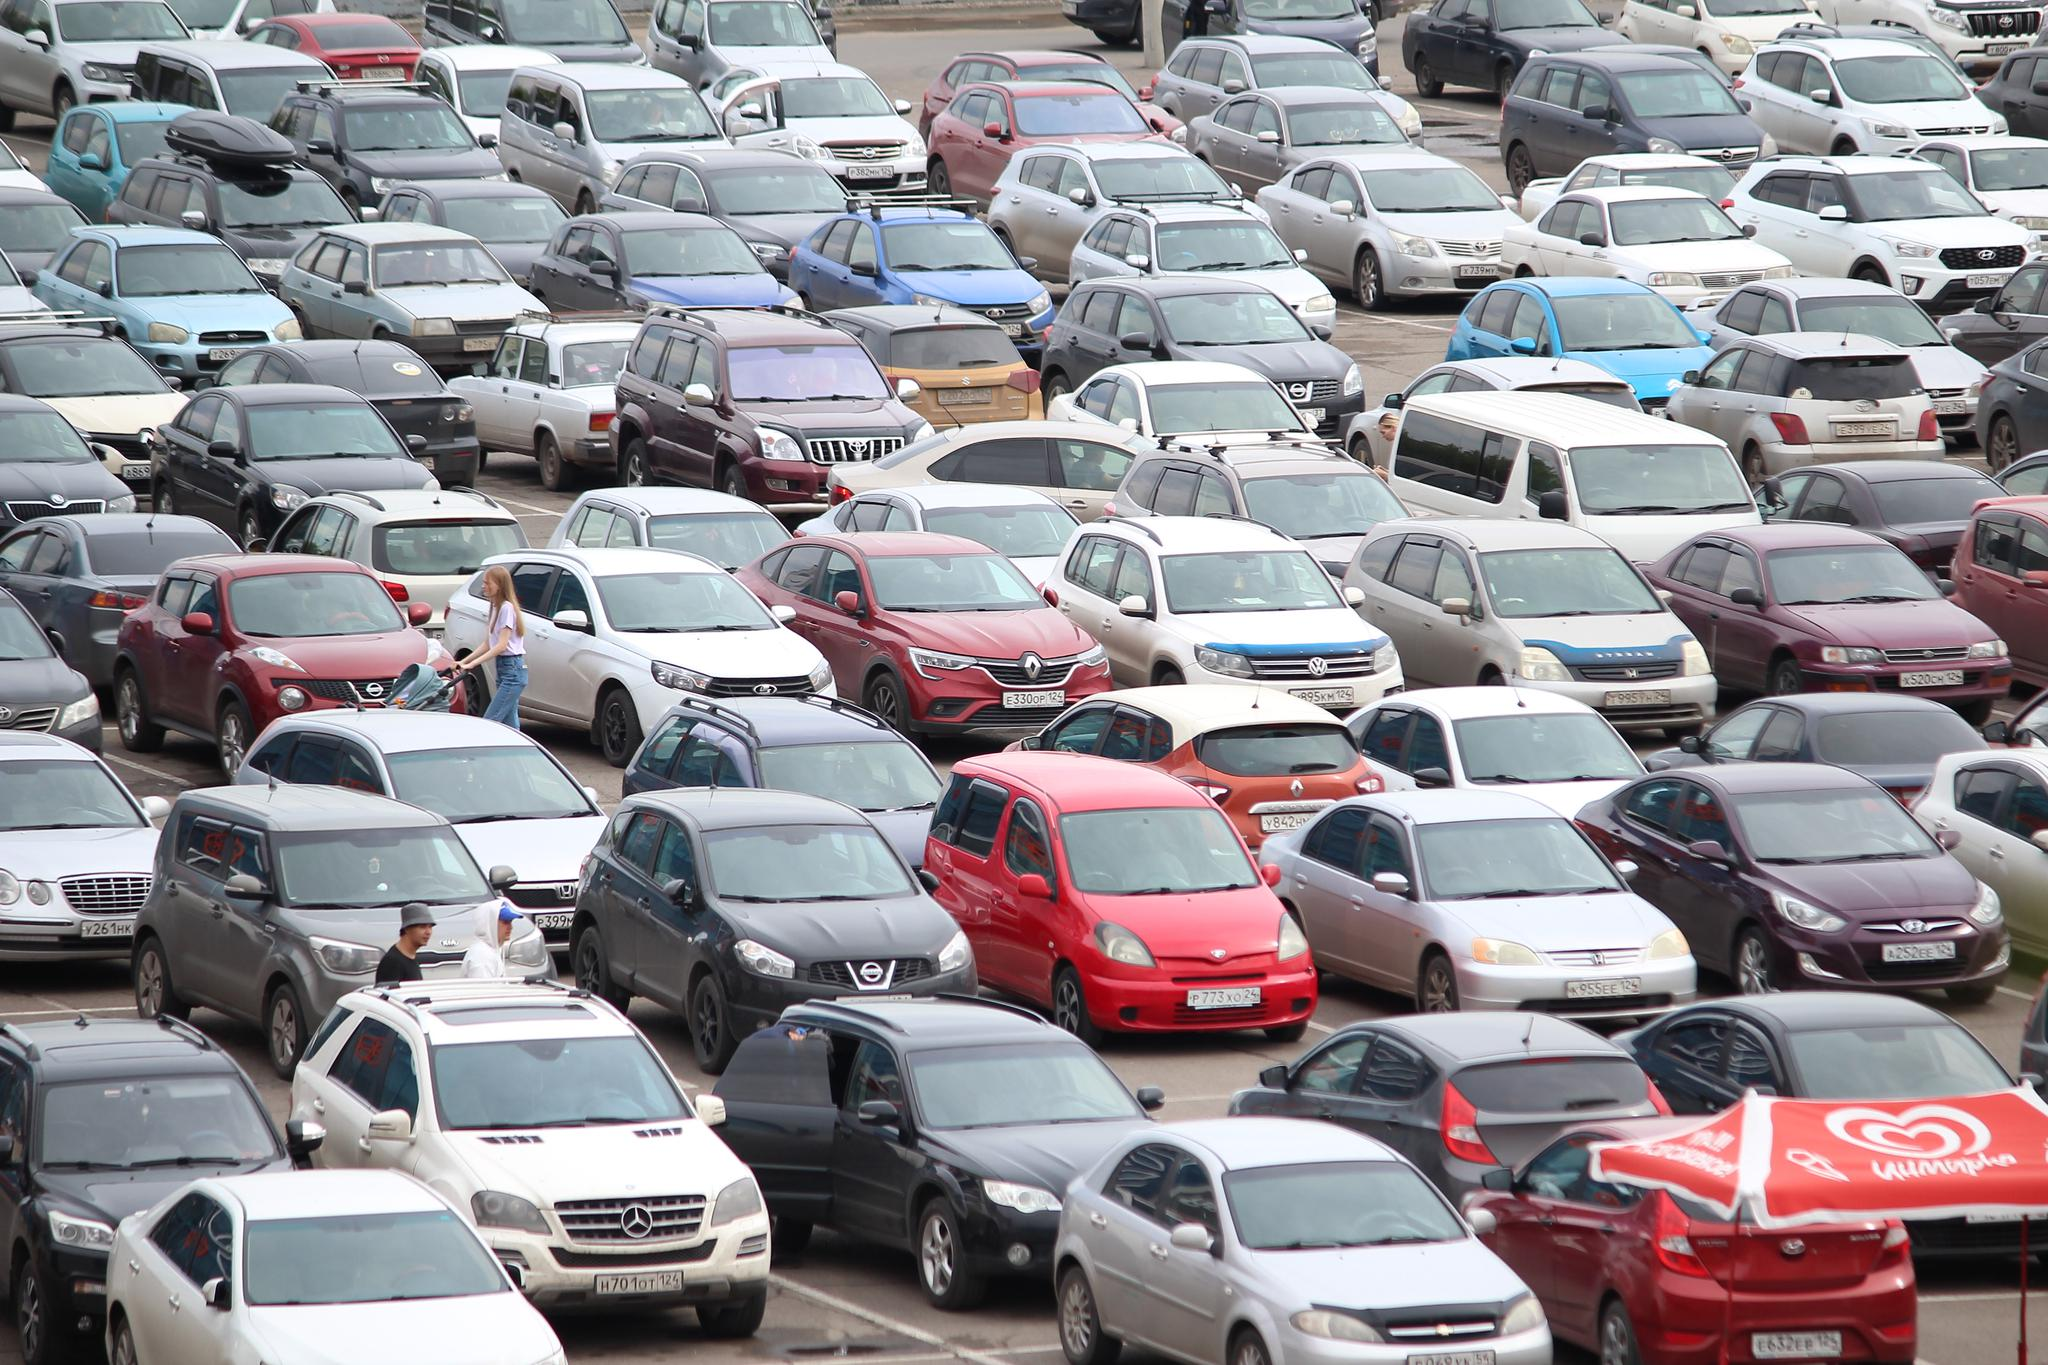Car: (291, 977, 770, 1338), (713, 998, 1160, 1309), (132, 783, 559, 1079), (1054, 1118, 1553, 1365), (568, 789, 976, 1072), (923, 751, 1316, 1042), (1459, 1117, 1919, 1365), (1577, 765, 2008, 1002), (1259, 789, 1696, 1021), (0, 1018, 291, 1365), (238, 708, 611, 955), (1227, 1010, 1675, 1210), (107, 1172, 565, 1365), (442, 547, 834, 765), (1343, 519, 1718, 745), (116, 553, 469, 782), (731, 530, 1118, 736), (1637, 524, 2015, 724), (1037, 516, 1405, 719), (606, 306, 935, 513), (1389, 390, 1763, 565), (1002, 682, 1383, 846), (621, 696, 941, 870), (1042, 277, 1367, 446), (1719, 154, 2040, 314), (1102, 433, 1431, 587), (151, 384, 443, 555), (1681, 277, 1984, 442), (1608, 993, 2015, 1115), (107, 111, 362, 299), (0, 513, 245, 705), (32, 222, 305, 390), (1666, 331, 1946, 494), (498, 62, 793, 216), (787, 206, 1054, 367), (279, 222, 551, 378), (1255, 154, 1524, 309), (1343, 686, 1649, 821), (987, 143, 1278, 283), (1500, 50, 1778, 197), (1641, 692, 1989, 807), (0, 727, 171, 961), (265, 489, 530, 638), (209, 341, 480, 486), (1443, 277, 1715, 419), (1498, 186, 1800, 309), (1069, 200, 1335, 338), (927, 81, 1189, 218), (270, 79, 513, 222), (598, 149, 850, 286), (446, 318, 646, 491), (1345, 356, 1646, 469), (699, 61, 929, 207), (1728, 38, 2008, 155), (0, 315, 190, 487), (827, 420, 1157, 519), (1153, 35, 1425, 148), (1903, 748, 2048, 960), (792, 486, 1080, 590), (816, 306, 1045, 434), (1754, 462, 2005, 577), (1185, 87, 1437, 200), (531, 212, 807, 312), (920, 50, 1188, 146), (1402, 0, 1634, 107), (0, 0, 192, 128), (1045, 361, 1320, 445), (547, 486, 793, 571), (1944, 494, 2048, 689), (0, 393, 139, 536), (381, 180, 571, 283), (47, 102, 196, 225), (0, 587, 104, 763), (1807, 0, 2048, 73), (646, 0, 834, 91), (131, 41, 340, 123), (1617, 0, 1826, 82), (1906, 136, 2048, 254), (1160, 0, 1381, 76), (414, 44, 565, 154), (1060, 0, 1402, 47), (1520, 152, 1739, 222), (420, 0, 649, 67), (1775, 23, 1978, 91), (238, 12, 425, 82), (1938, 261, 2048, 364), (1976, 340, 2048, 472), (0, 189, 93, 286), (1579, 43, 1733, 91), (1973, 47, 2048, 139), (167, 0, 340, 38), (0, 247, 61, 324), (2016, 973, 2048, 1104), (1981, 689, 2048, 751), (0, 139, 53, 193), (1989, 449, 2048, 497), (801, 0, 836, 62)
